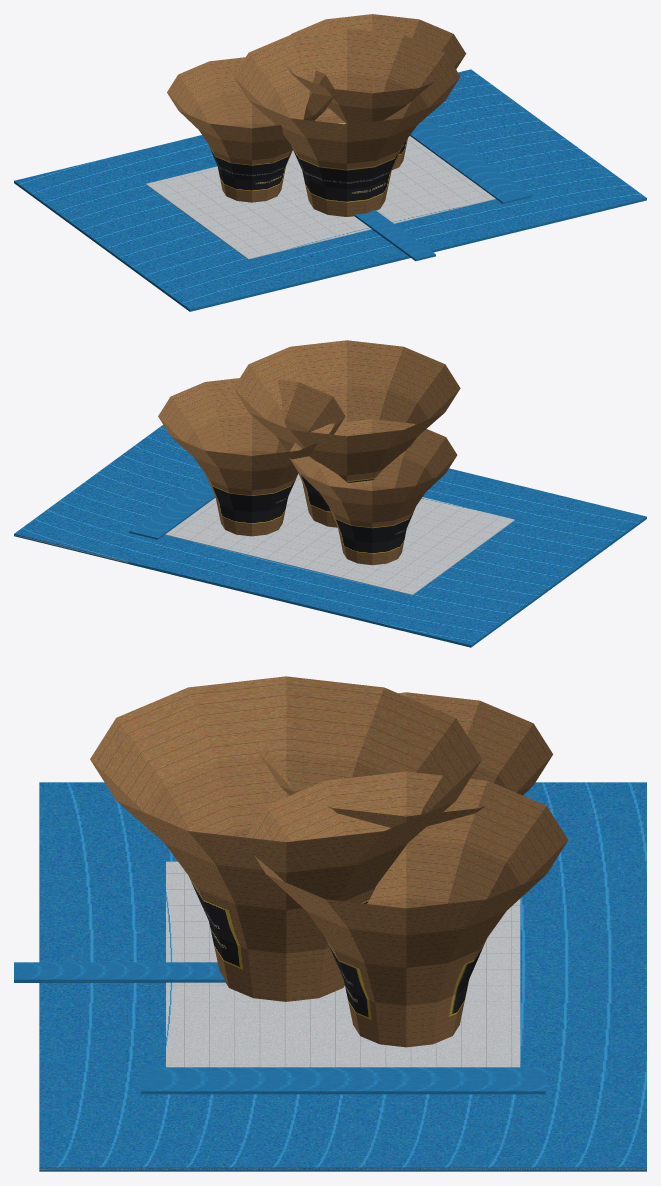
3 views of the same model, one above another, from view 1: azimuth 30°, elevation 25°; view 2: azimuth 150°, elevation 25°; view 3: azimuth 270°, elevation 25° (orthographic). The views are drawn at different scales.
Visible parts, largest first — view 1: 28185_01_21987_001_01_lod2__plaza_base, 28185_01_21987_001_02_lod2__tribowl_mass, 28185_01_21987_001_03_lod2__water_canal, 28185_01_21987_001_04_lod2__bridge_dock; view 2: 28185_01_21987_001_02_lod2__tribowl_mass, 28185_01_21987_001_01_lod2__plaza_base, 28185_01_21987_001_03_lod2__water_canal, 28185_01_21987_001_04_lod2__bridge_dock; view 3: 28185_01_21987_001_01_lod2__plaza_base, 28185_01_21987_001_02_lod2__tribowl_mass, 28185_01_21987_001_03_lod2__water_canal, 28185_01_21987_001_04_lod2__bridge_dock.
Part boxes in pixels (<box>): 28185_01_21987_001_01_lod2__plaza_base: <box>14,69,646,311</box>; 28185_01_21987_001_02_lod2__tribowl_mass: <box>167,14,466,216</box>; 28185_01_21987_001_03_lod2__water_canal: <box>146,136,495,259</box>; 28185_01_21987_001_04_lod2__bridge_dock: <box>354,118,531,261</box>; 28185_01_21987_001_02_lod2__tribowl_mass: <box>158,340,460,565</box>; 28185_01_21987_001_01_lod2__plaza_base: <box>14,425,646,647</box>; 28185_01_21987_001_03_lod2__water_canal: <box>14,474,514,595</box>; 28185_01_21987_001_04_lod2__bridge_dock: <box>129,475,215,539</box>; 28185_01_21987_001_01_lod2__plaza_base: <box>39,782,646,1171</box>; 28185_01_21987_001_02_lod2__tribowl_mass: <box>90,676,568,1047</box>; 28185_01_21987_001_03_lod2__water_canal: <box>39,861,646,1169</box>; 28185_01_21987_001_04_lod2__bridge_dock: <box>14,962,545,1094</box>.
Size of the model in its own units: 72 by 19.15 by 50.
Materials: 4 (4 with a texture image).
